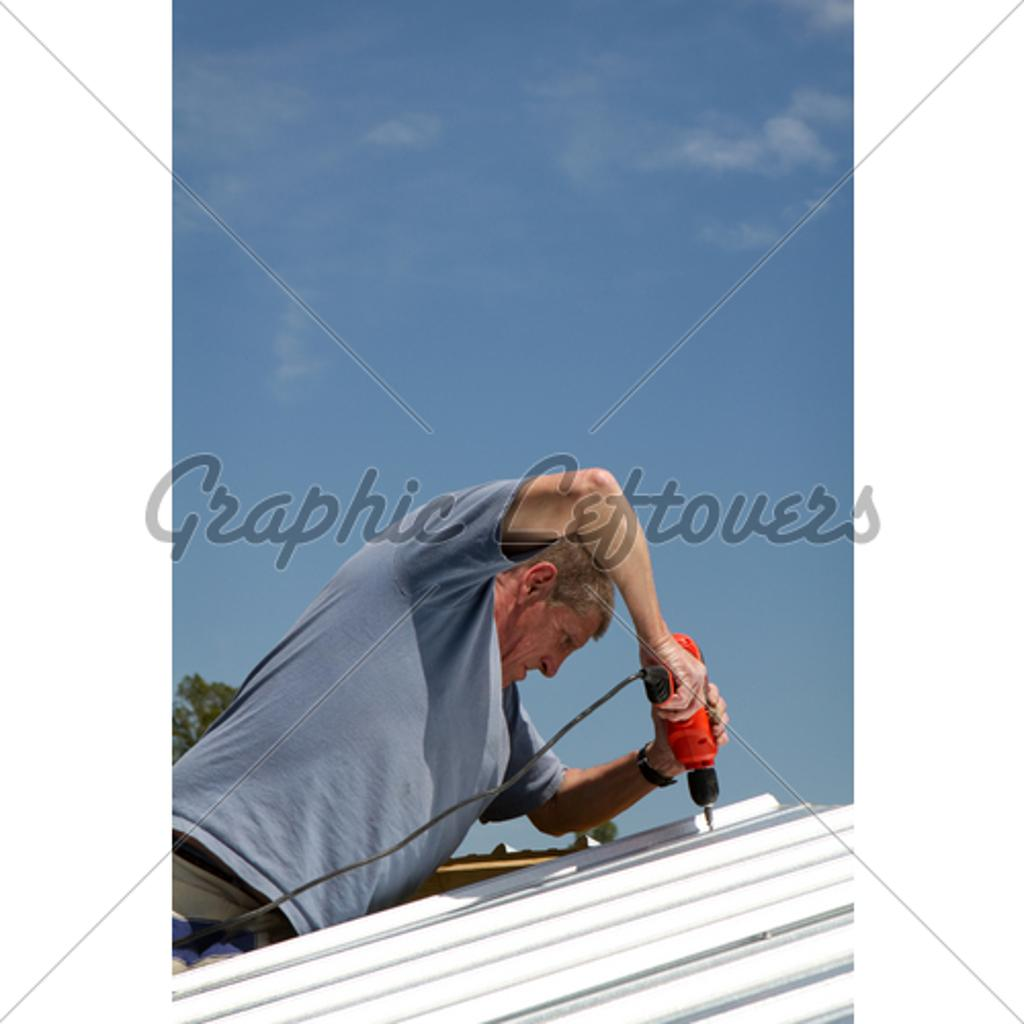face: (474, 576, 608, 680)
